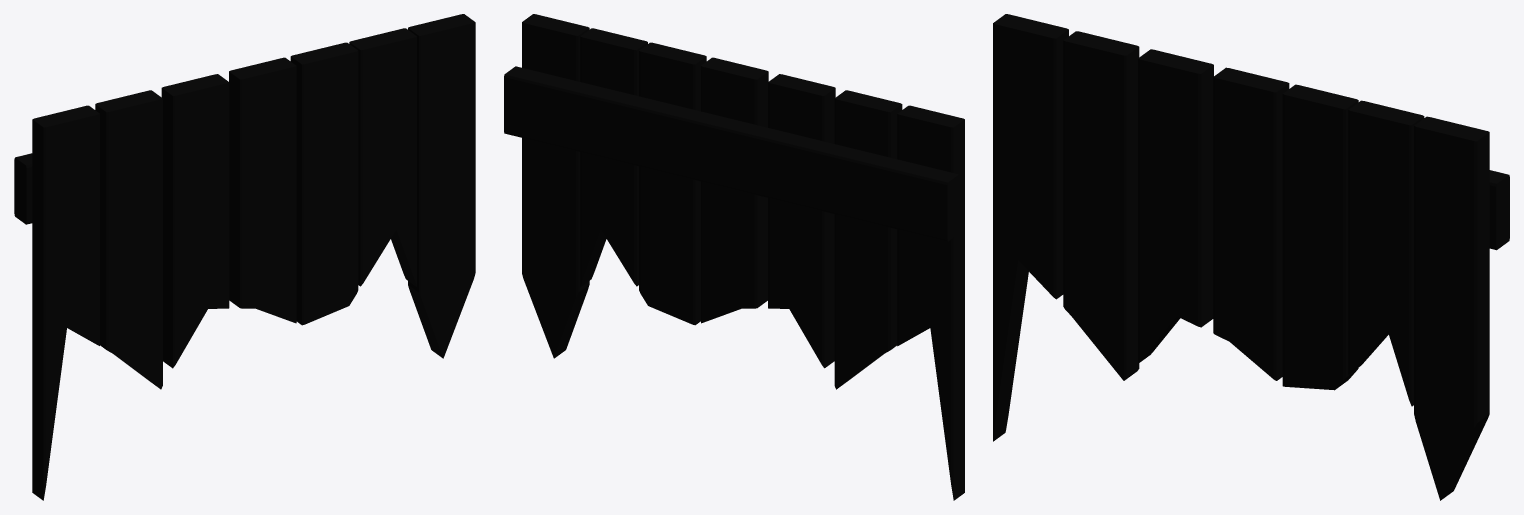
File: Broken fence.fbx
3 views of the same model, side by side, from view 1: azimuth 30°, elevation 25°; view 2: azimuth 150°, elevation 25°; view 3: azimuth 330°, elevation 25° (orthographic). The views are drawn at different scales.
Parts seen in each view (by area): view 1: Cube.001; view 2: Cube.001; view 3: Cube.001.
Boxes of the visible parts, <box> form: Cube.001: <box>14,14,475,500</box>; Cube.001: <box>504,14,964,500</box>; Cube.001: <box>993,14,1509,500</box>.
Bounding box in the file's own units: 152 × 122 × 14.05.
